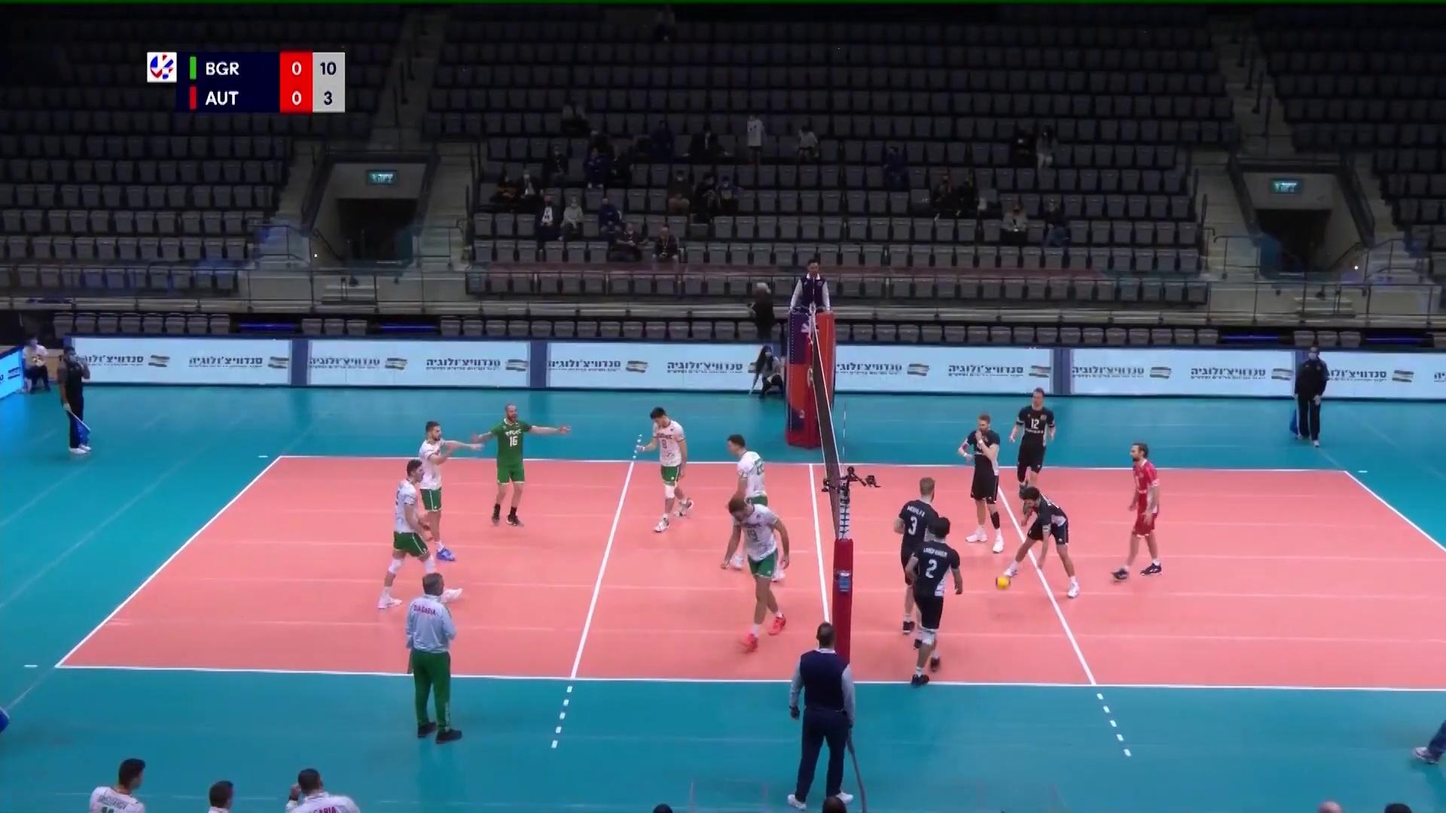ball: (995, 576, 1012, 591)
